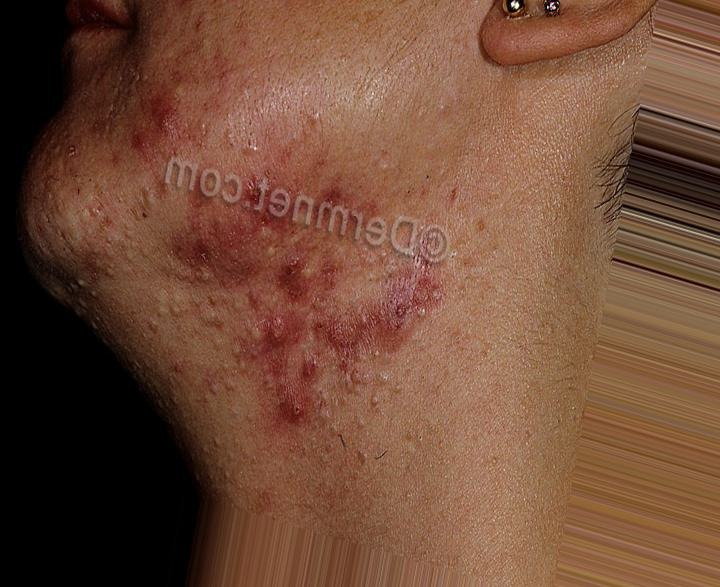Acne: (20, 54, 494, 432)
